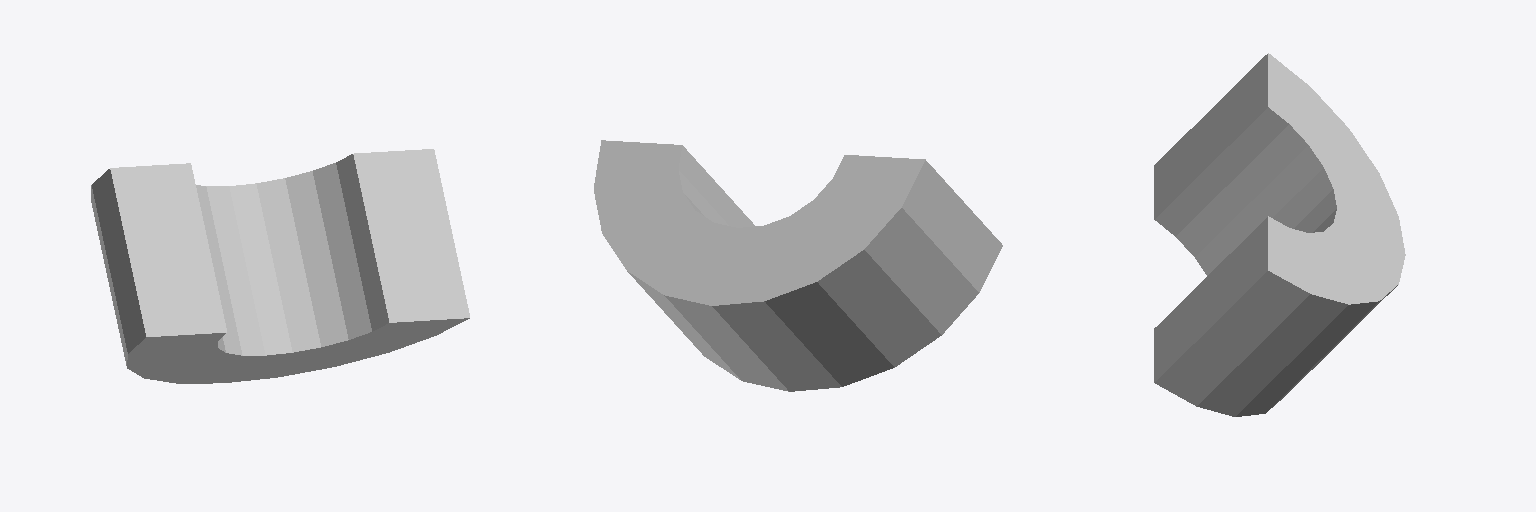
The model's file is rightHand.obj.
3 renders of one model, left to right at view 1: azimuth 30°, elevation 25°; view 2: azimuth 150°, elevation 25°; view 3: azimuth 270°, elevation 25°, orthographic.
Parts seen in each view (by area): view 1: pPipe2; view 2: pPipe2; view 3: pPipe2.
Boxes of the visible parts, x1=… form: pPipe2: x1=91, y1=149, x2=469, y2=383; pPipe2: x1=594, y1=140, x2=1002, y2=391; pPipe2: x1=1154, y1=53, x2=1405, y2=416.
Size of the model in its own units: 4.05 by 2.9 by 2.55.